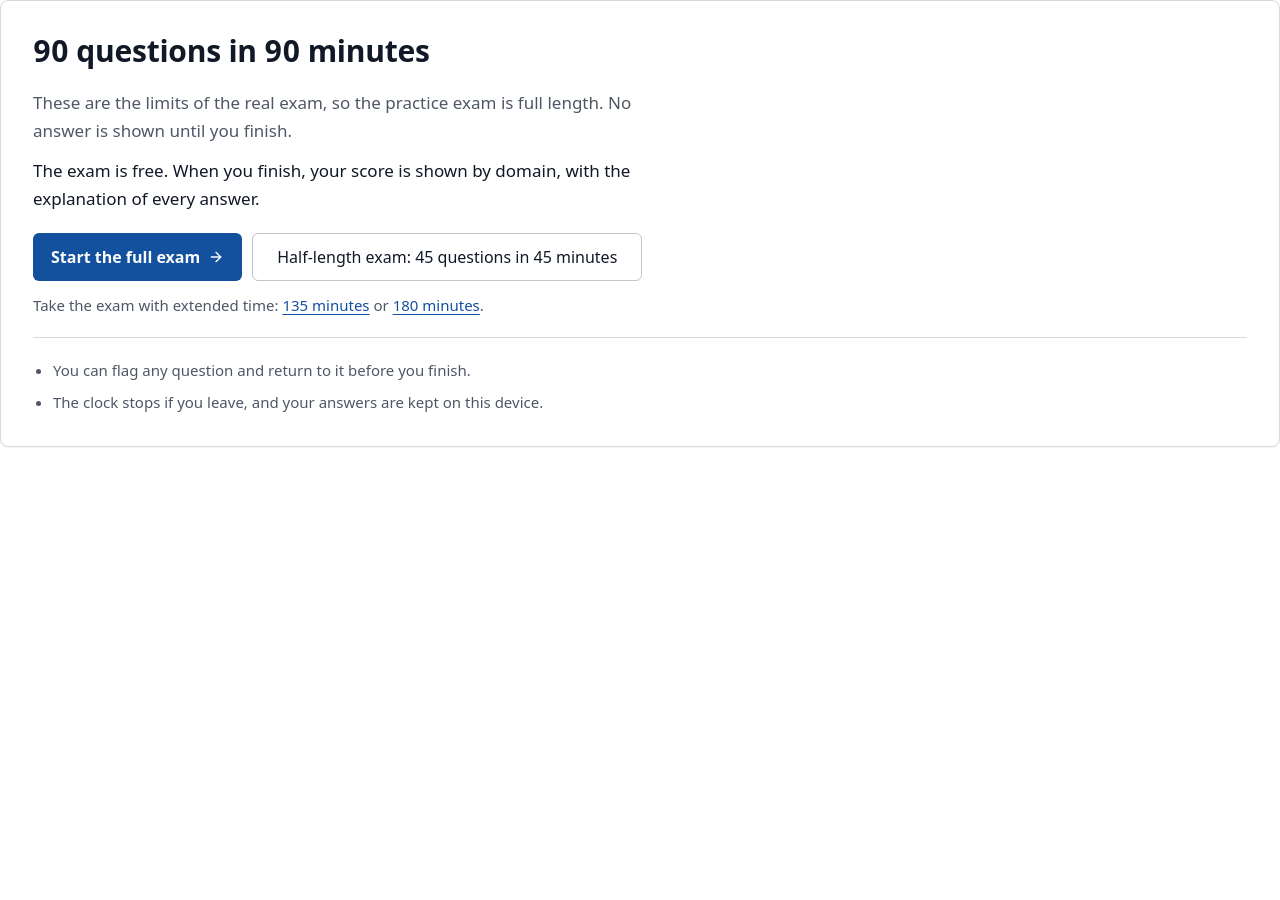
Test: PracticeExam › offers a full-length exam, or a half cut from it in the exam's weights
The image size is (1280, 900).
Expected: the heading "90 questions in 90 minutes" is shown, [33,30,430,71]
Expected: the text "These are the limits of the real exam, so the practice exam is full length. No answer is shown until you finish." is shown, [33,91,631,142]
Click the button "Half-length exam: 45 questions in 45 minutes".
click(447, 257)  # box [252,233,642,281]
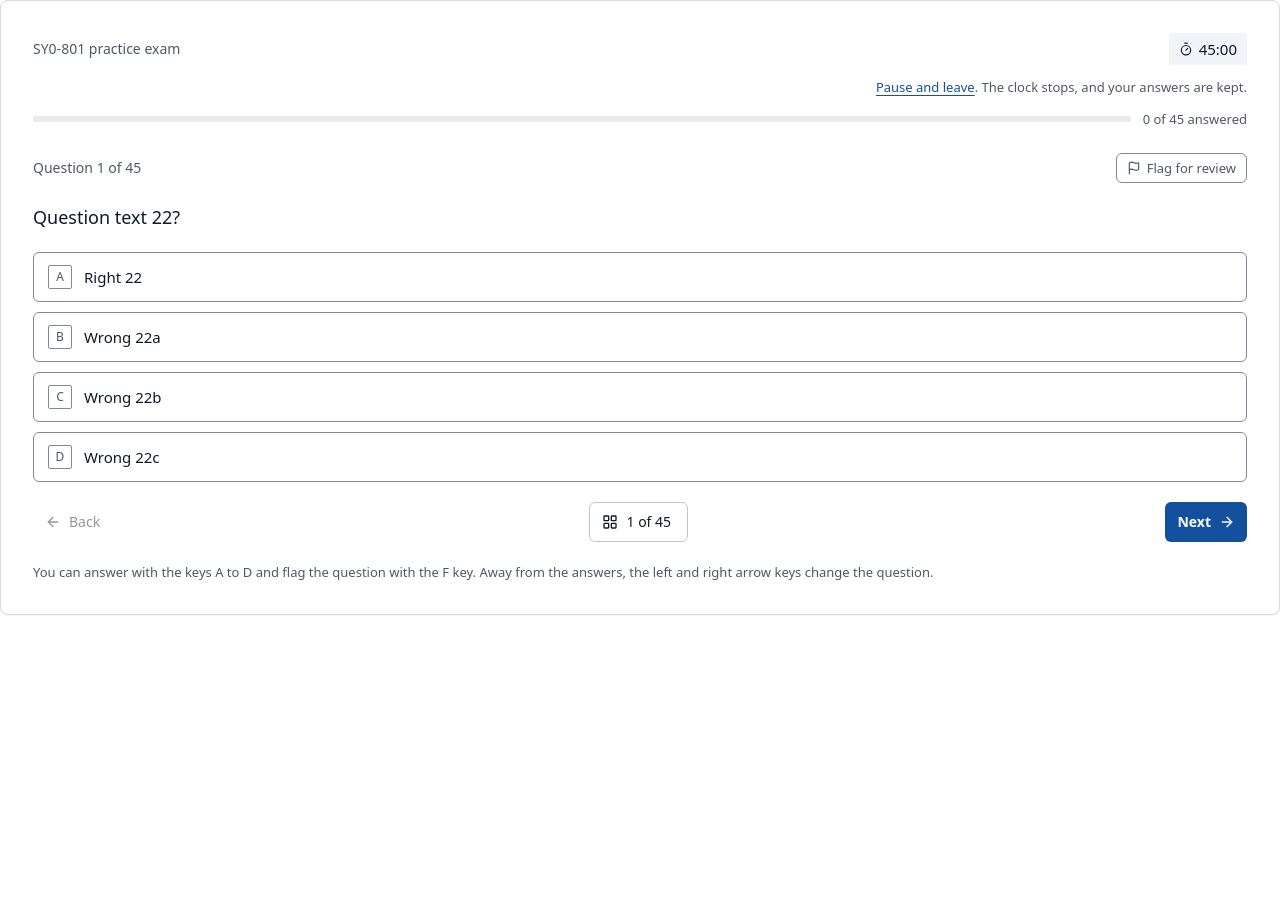
Click the button "Pause and leave".
click(925, 87)  # box [876,77,975,97]
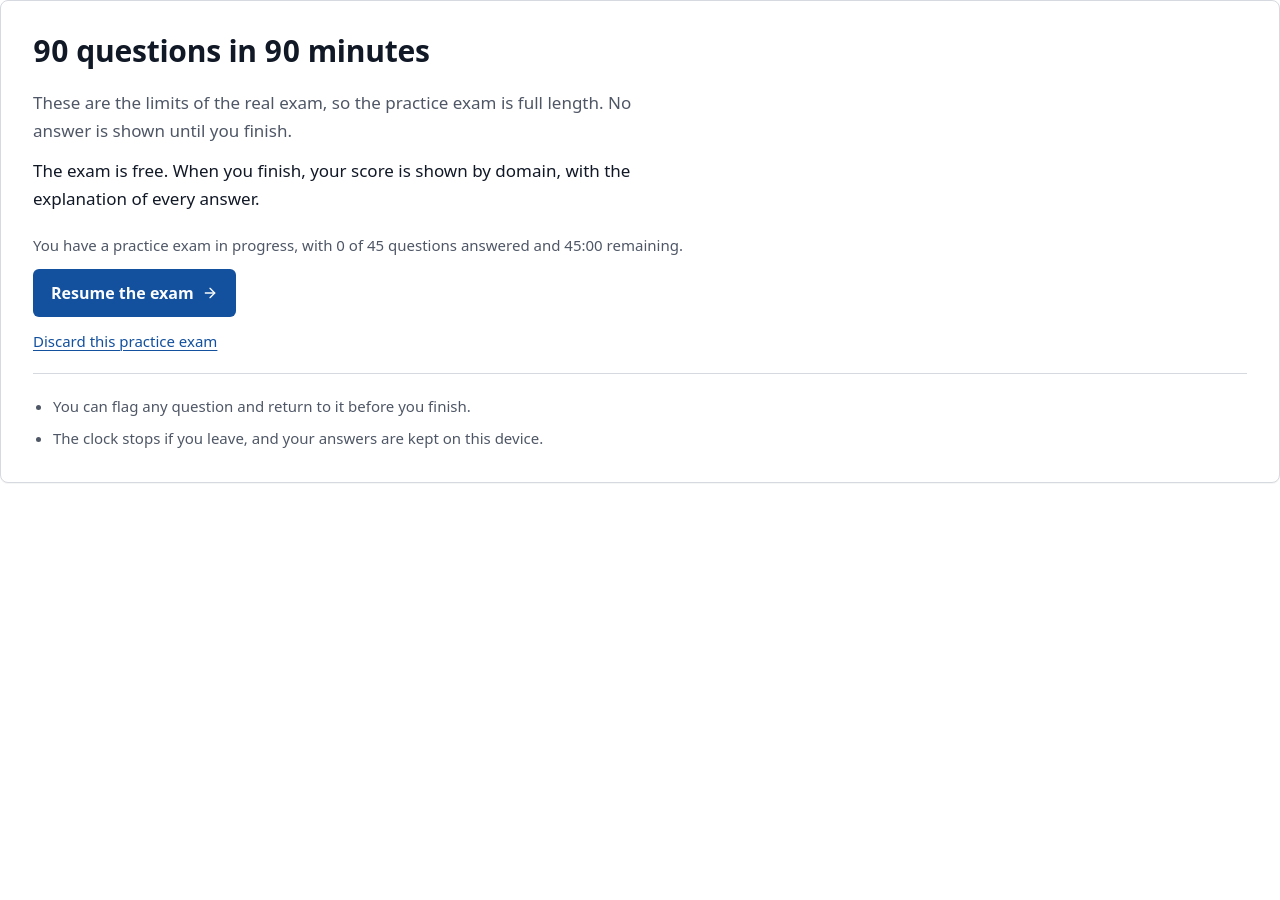
Now the text "with 0 of 45 questions answered" is shown, box [33,235,683,255]
